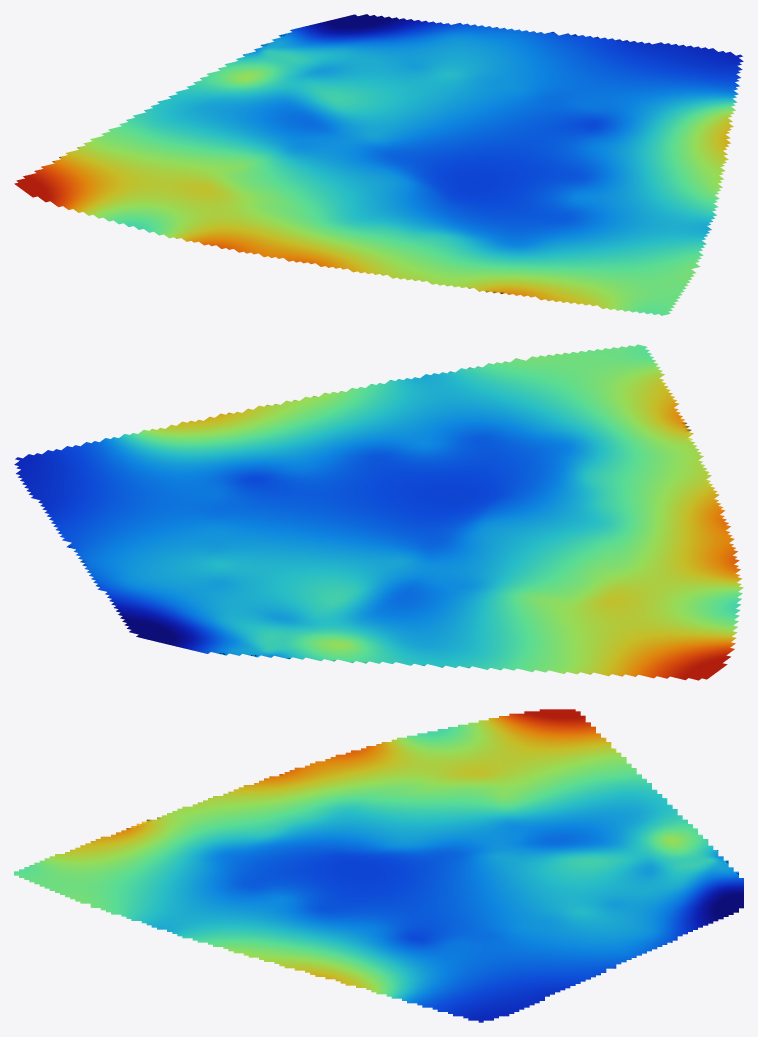
The model's file is algalProtein.gltf.
3 renders of one model, top to bottom at view 1: azimuth 30°, elevation 25°; view 2: azimuth 150°, elevation 25°; view 3: azimuth 270°, elevation 25°, orthographic. The views are drawn at different scales.
Visible parts, largest first — view 1: algalProtein_kriging; view 2: algalProtein_kriging; view 3: algalProtein_kriging.
Part boxes in pixels (<box>): algalProtein_kriging: <box>14,14,743,315</box>; algalProtein_kriging: <box>14,344,743,680</box>; algalProtein_kriging: <box>14,709,743,1022</box>.
Bounding box in the file's own units: 652 × 0.716 × 644.
1 material, 1 textured.
